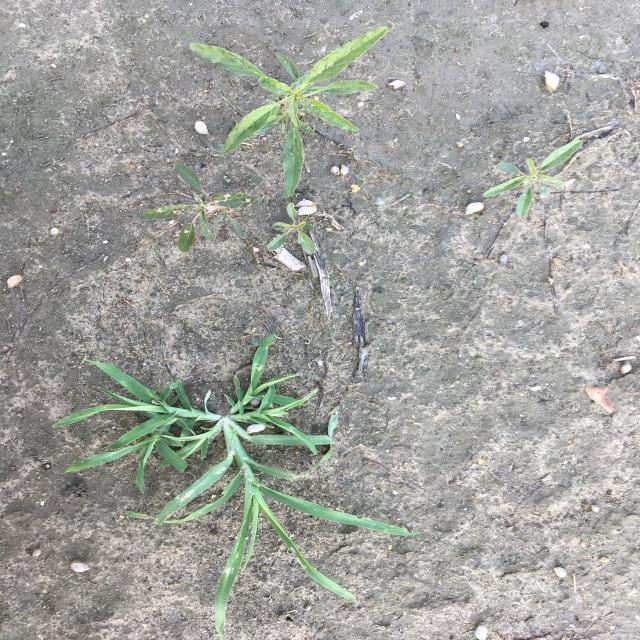Goosegrass: (49, 332, 423, 637)
Waterhemp: (188, 27, 389, 198), (137, 162, 250, 253), (482, 138, 585, 220), (260, 200, 326, 257)
